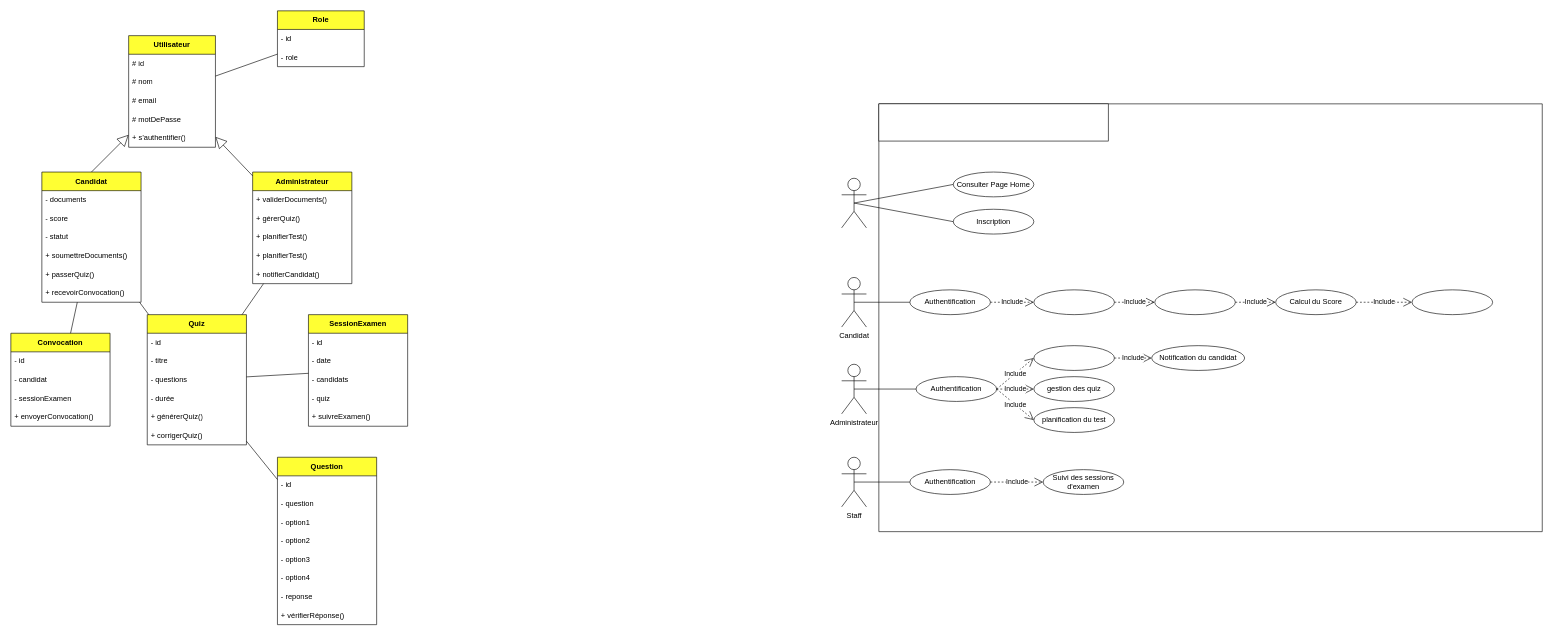
Image size: 1553x636. Some labels were removed from this diagram. The shapes that lost their labels are listed below. From the top down, each one's centre as x and y in pixels, then its label:
At point 993,122: "Plateforme de Tests d'Acceptation - Youcode".
At point 853,203: "visiteur".
At point 1073,302: "soumission des documents".
At point 1194,302: "passage du quiz".
At point 1452,302: "réception de la convocation".
At point 1073,357: "Validation des documents".
